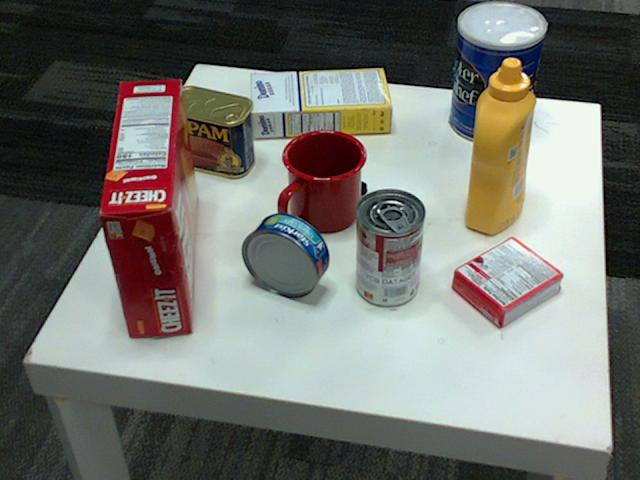cracker_box: (99, 77, 199, 335)
gelatin_box: (451, 237, 563, 328)
large_marker: (287, 144, 365, 195)
master_chef_can: (448, 2, 544, 144)
mug: (281, 127, 368, 230)
mustard_bottle: (463, 59, 536, 233)
potted_meat_can: (162, 87, 255, 177)
sugar_box: (251, 68, 392, 136)
tomato_soup_can: (356, 188, 425, 306)
tuna_fish_can: (243, 213, 330, 297)
